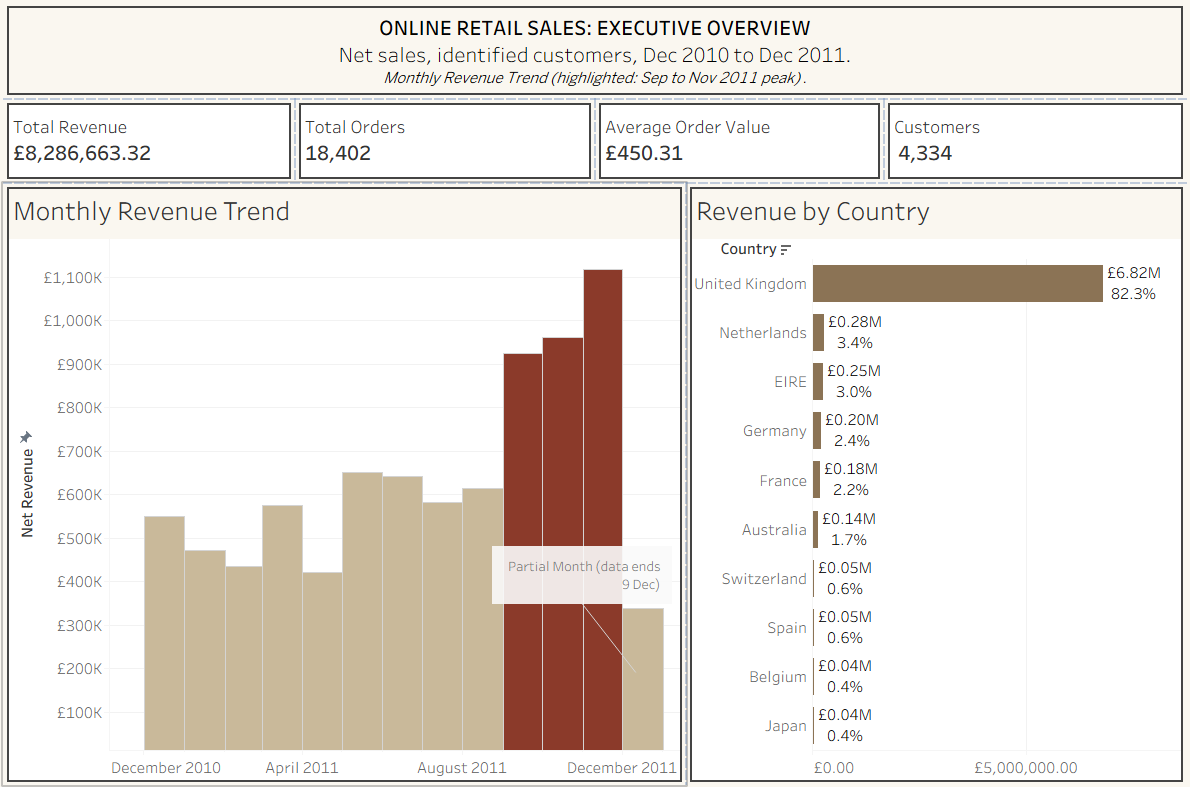

The dashboard page shown, as its layout file describes it:
{"tool":"tableau","page":{"name":"Executive Overview","canvas":[1200,800],"ordinal":1},"visuals":[{"type":"worksheet","title":"KPI - Average Order Value (AOV)","mark":"Automatic","box":[417,25,211,156]},{"type":"worksheet","title":"KPI - Total Customers","mark":"Automatic","box":[636,25,200,157]},{"type":"worksheet","title":"KPI - Total Orders","mark":"Automatic","box":[206,26,205,155]},{"type":"worksheet","title":"KPI - Total Revenue","mark":"Automatic","box":[6,28,200,154]},{"type":"filter","title":"Monthly Revenue Trend","param":"[federated.08bz8h319zoiio131hh471t4ru6s].[yr:InvoiceDate:ok]","box":[841,29,179,153]},{"type":"worksheet","title":"Revenue by Country","mark":"Automatic","rows":["Country"],"cols":["Revenue"],"box":[575,187,612,598]},{"type":"worksheet","title":"Monthly Revenue Trend","mark":"Automatic","rows":["Revenue"],"cols":["InvoiceDate"],"box":[7,190,566,594]}]}

Visuals, with their boxes in screenshot pixels (x1, y1, x2, y2), scaled from the page's 1200x800 canvas onto the 1190x787 screenshot:
"KPI - Average Order Value (AOV)" worksheet: [x1=414, y1=25, x2=623, y2=178]
"KPI - Total Customers" worksheet: [x1=631, y1=25, x2=829, y2=179]
"KPI - Total Orders" worksheet: [x1=204, y1=26, x2=408, y2=178]
"KPI - Total Revenue" worksheet: [x1=6, y1=28, x2=204, y2=179]
"Monthly Revenue Trend" filter: [x1=834, y1=29, x2=1012, y2=179]
"Revenue by Country" worksheet: [x1=570, y1=184, x2=1177, y2=772]
"Monthly Revenue Trend" worksheet: [x1=7, y1=187, x2=568, y2=771]
